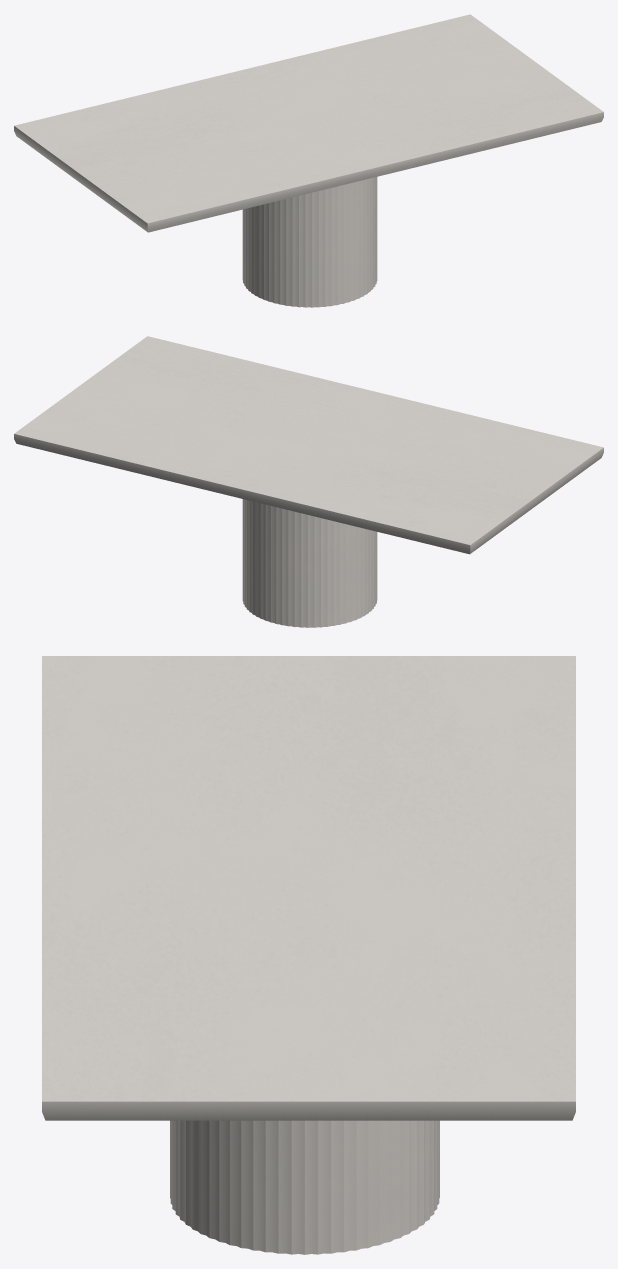
File: pearlwhite_recta_facet_ripple.glb
3 renders of one model, top to bottom at view 1: azimuth 30°, elevation 25°; view 2: azimuth 150°, elevation 25°; view 3: azimuth 270°, elevation 25°, orthographic. The views are drawn at different scales.
Visible parts, largest first — view 1: tabletop_recta_facet.002, tableleg_ripple.019; view 2: tabletop_recta_facet.002, tableleg_ripple.019; view 3: tabletop_recta_facet.002, tableleg_ripple.019.
Boxes of the visible parts, left/top/right/bottom form: tabletop_recta_facet.002: left=14, top=14, right=603, bottom=232; tableleg_ripple.019: left=242, top=177, right=377, bottom=307; tabletop_recta_facet.002: left=14, top=336, right=603, bottom=554; tableleg_ripple.019: left=242, top=499, right=377, bottom=627; tabletop_recta_facet.002: left=42, top=656, right=575, bottom=1120; tableleg_ripple.019: left=170, top=1120, right=439, bottom=1254.
Bounding box in the file's own units: 7.5 × 2.5 × 3.8.
Materials: 1 (1 with a texture image).
